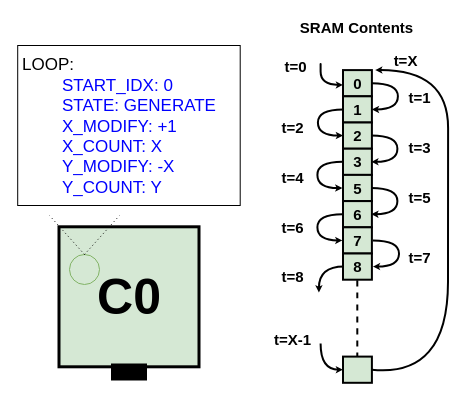
The diagram is 466 pixels wide and 401 high, and some of its shapes have lost their labels. The shapes that lost their labels are listed below. From the top down, each one's centre as x and y in pixels, then its label:
At [84,269]: "RAG".
At [357,369]: "X-1".
